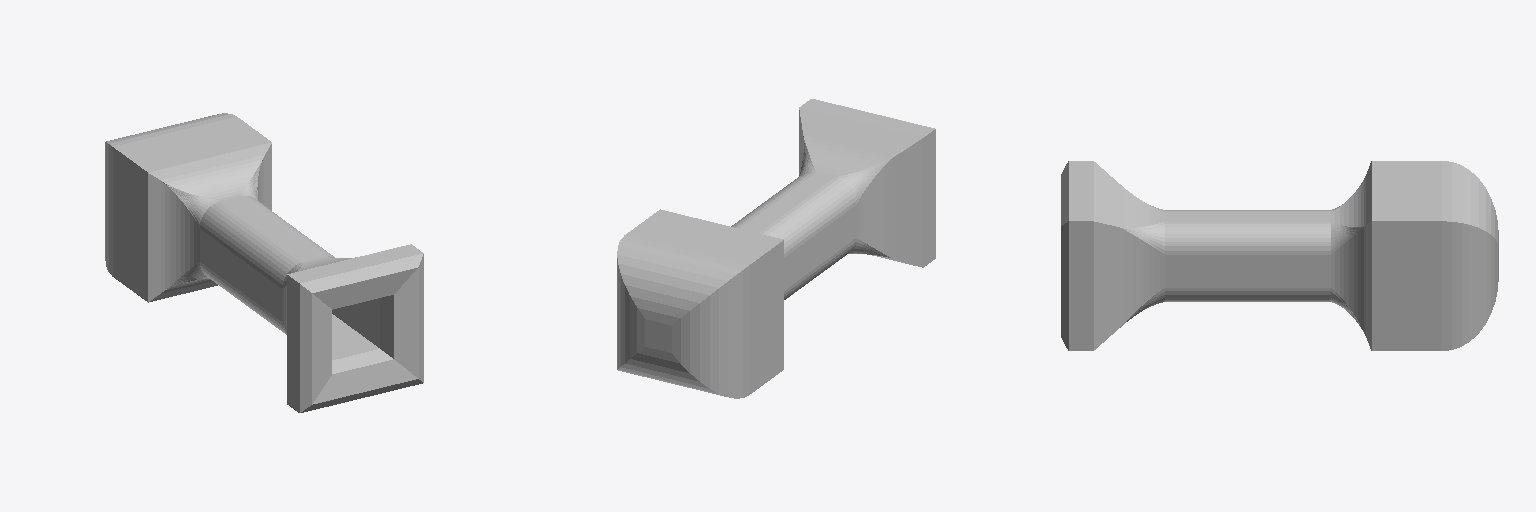
File: cannon.obj
The picture shows the model from 3 angles: view 1: azimuth 30°, elevation 25°; view 2: azimuth 150°, elevation 25°; view 3: azimuth 270°, elevation 25°; orthographic projection.
Parts seen in each view (by area): view 1: Plane; view 2: Plane; view 3: Plane.
Boxes of the visible parts, <box> form: Plane: <box>105,113,423,412</box>; Plane: <box>617,99,935,398</box>; Plane: <box>1061,161,1498,350</box>.
Bounding box in the file's own units: 2 × 2 × 6.1.